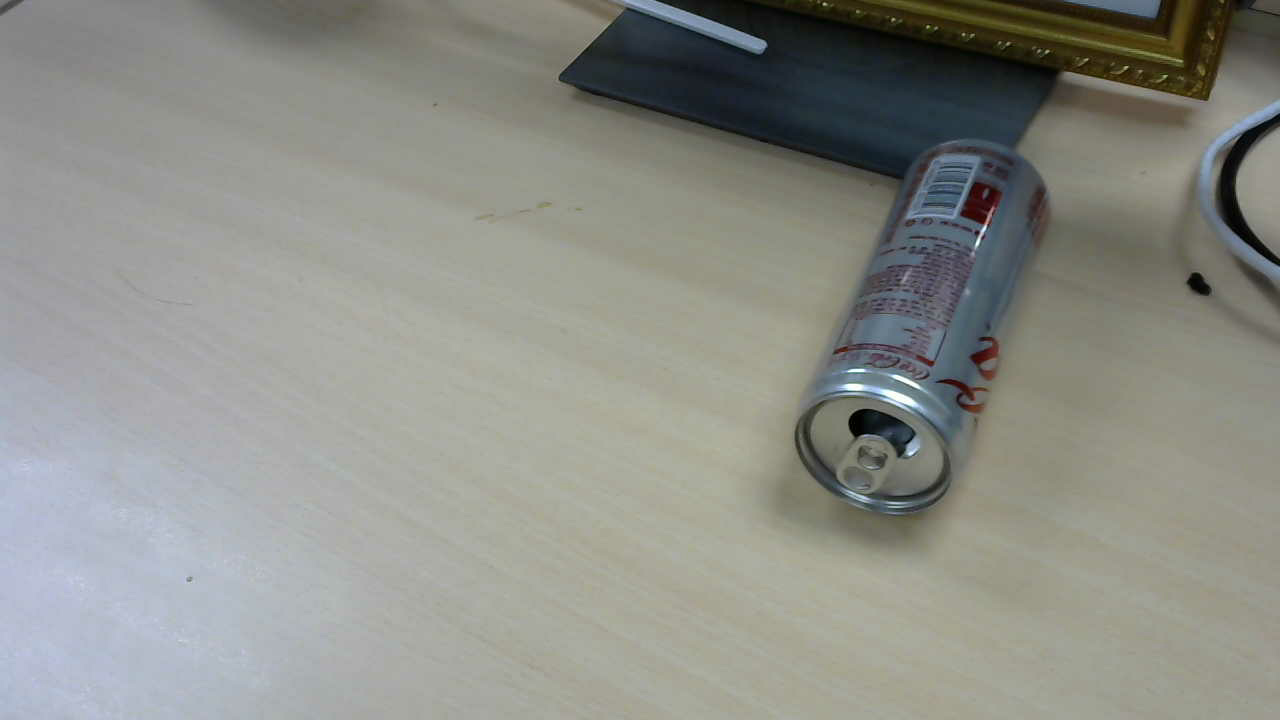Coca_Cola: (799, 141, 1059, 521)
